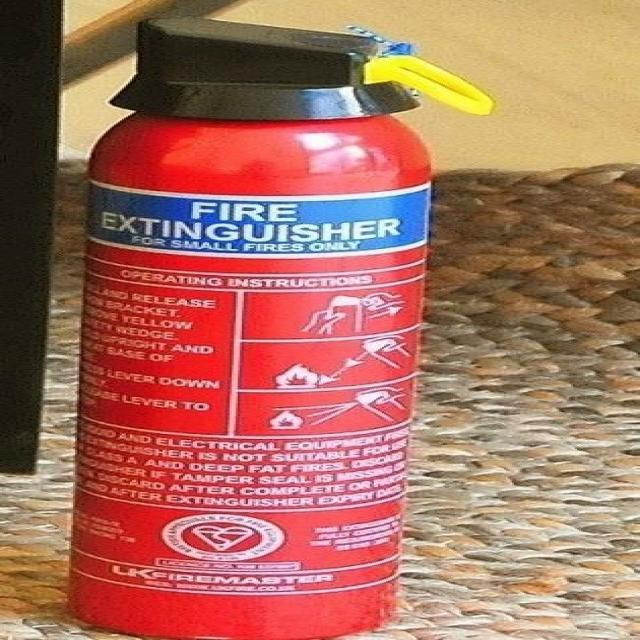fire_extinguisher: (51, 13, 502, 639)
